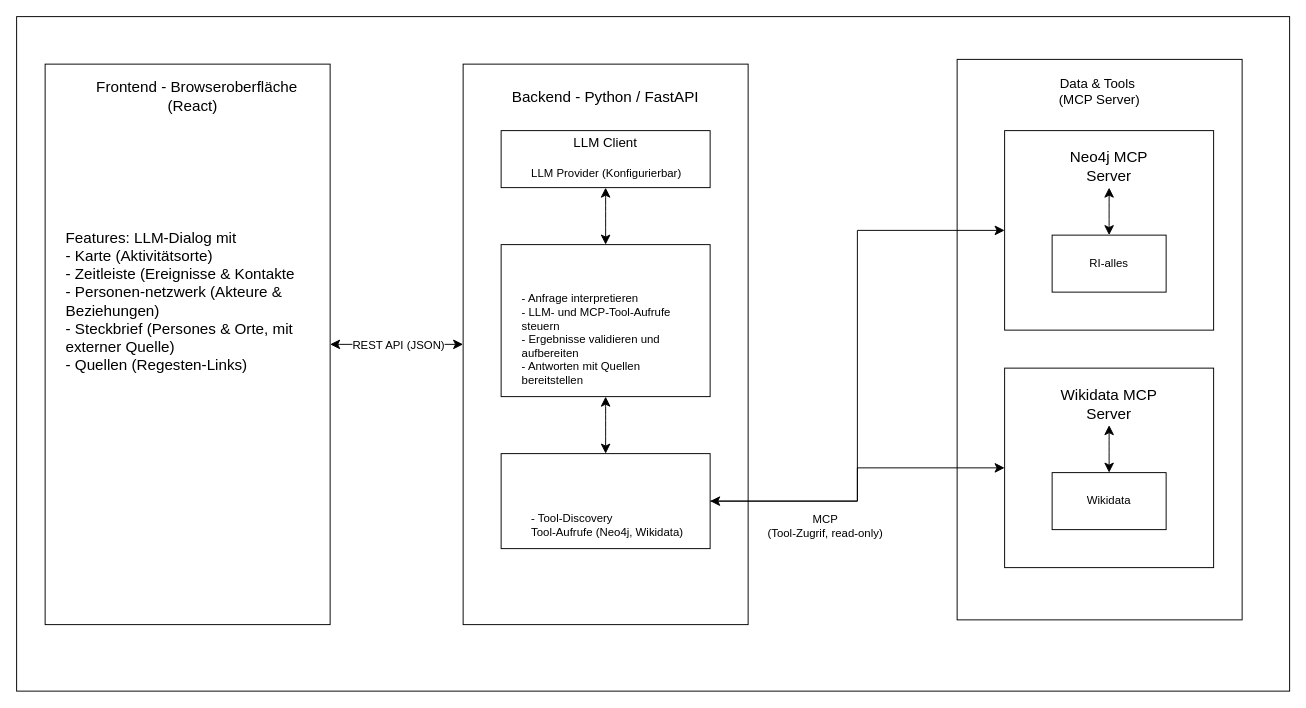
The diagram is 1306 pixels wide and 708 high, and some of its shapes have lost their labels. The shapes that lost their labels are listed below. From the top down, each one's box as (x1, y1, x2, y2) in pixels, then its label:
(500, 244, 710, 397): Agentic Harness (Orchestrierung)
(500, 453, 710, 549): MCP Client
